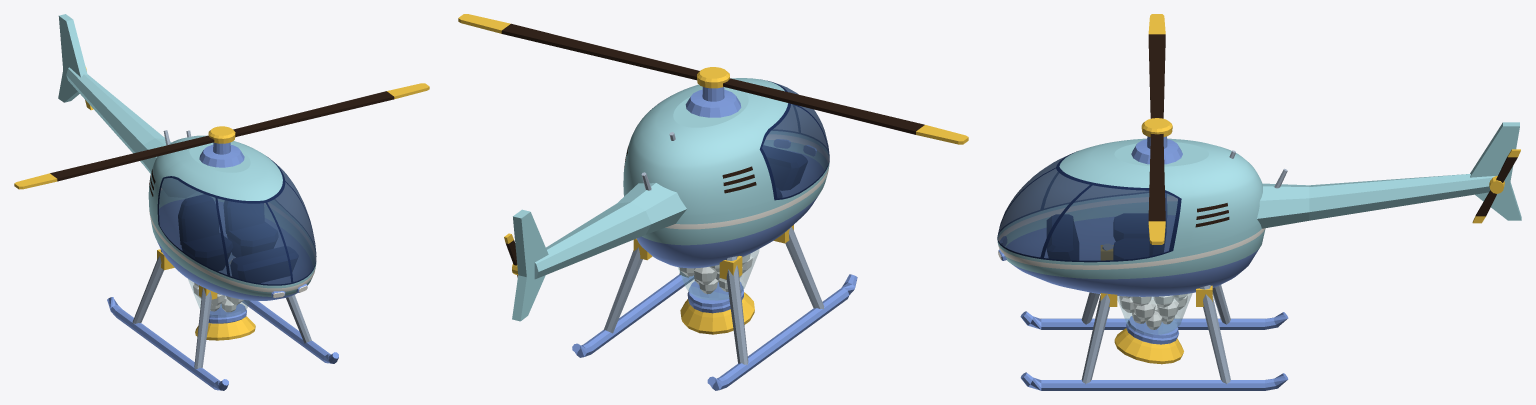
The model's file is SnowHelicopterRounded.glb.
3 renders of one model, left to right at view 1: azimuth 30°, elevation 25°; view 2: azimuth 150°, elevation 25°; view 3: azimuth 270°, elevation 25°, orthographic. The views are drawn at different scales.
Visible parts, largest first — view 1: Cabin, CabinInterior, MainRotor, Tail, LandingSkids, VacuumBell, CollectorGlass, Snow; view 2: Cabin, Tail, LandingSkids, MainRotor, VacuumBell, CollectorGlass, CabinInterior, Snow; view 3: Cabin, Tail, LandingSkids, MainRotor, CabinInterior, VacuumBell, CollectorGlass, Snow, TailRotor.
Part boxes in pixels (<box>): Cabin: <box>148,135,316,300</box>; CabinInterior: <box>178,194,298,282</box>; MainRotor: <box>14,83,429,189</box>; Tail: <box>58,14,196,197</box>; LandingSkids: <box>107,249,338,390</box>; VacuumBell: <box>195,304,255,340</box>; CollectorGlass: <box>188,279,249,317</box>; Snow: <box>193,259,243,312</box>; Cabin: <box>623,78,829,268</box>; Tail: <box>512,132,686,321</box>; LandingSkids: <box>572,225,857,390</box>; MainRotor: <box>458,14,968,144</box>; VacuumBell: <box>680,281,754,334</box>; CollectorGlass: <box>678,249,759,300</box>; CabinInterior: <box>762,145,807,197</box>; Snow: <box>679,253,752,294</box>; Cabin: <box>997,138,1265,296</box>; Tail: <box>1229,122,1521,228</box>; LandingSkids: <box>1020,244,1288,390</box>; MainRotor: <box>1131,14,1182,244</box>; CabinInterior: <box>1047,193,1166,260</box>; VacuumBell: <box>1114,316,1183,364</box>; CollectorGlass: <box>1117,293,1192,334</box>; Snow: <box>1119,293,1187,329</box>; TailRotor: <box>1472,149,1520,223</box>.
Bounding box in the file's own units: 5.26 × 2.55 × 5.11.
2 materials, 1 textured.
